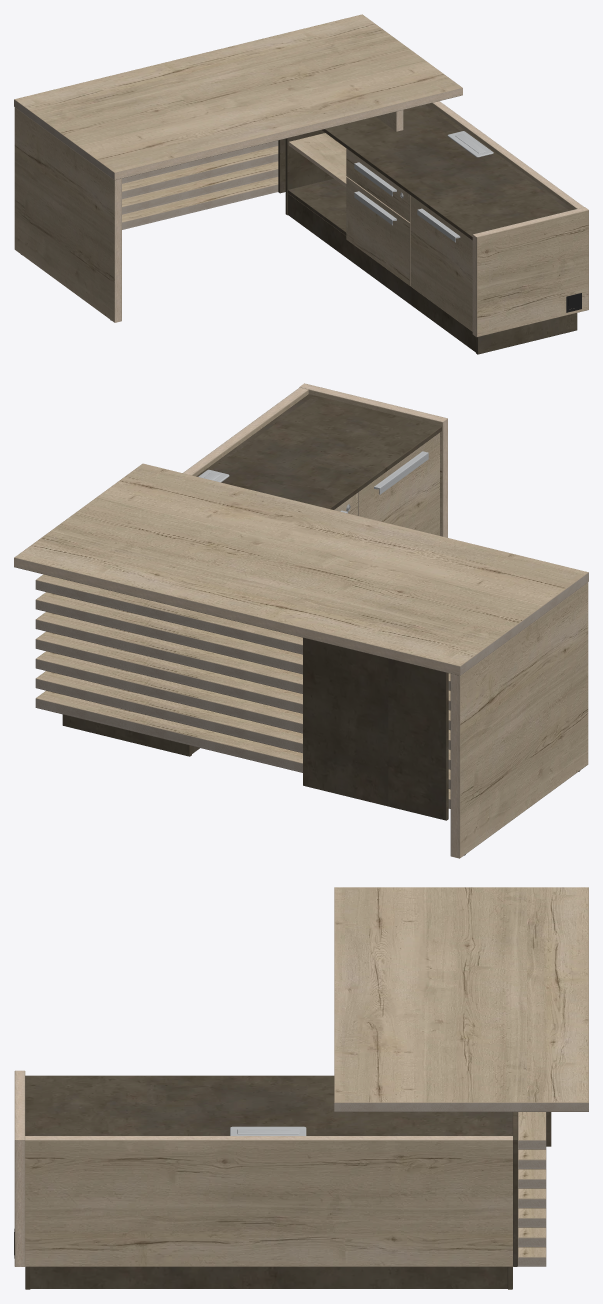
3 views of the same model, one above another, from view 1: azimuth 30°, elevation 25°; view 2: azimuth 150°, elevation 25°; view 3: azimuth 270°, elevation 25° (orthographic). The views are drawn at different scales.
Parts seen in each view (by area): view 1: Box1578995149, Line1789532200, Line1789532211, Line1789532197, Line1789532193, Line1789532195, Line1789532187, Line1789532206, Line1789532205, Line1789532207, Line1789532186, Line1789532184 (+6 smaller); view 2: Box1578995149, Line1789532200, Line1789532201, Line1789532211, Line1789532205, Line1789532206, Line1789532207, Line1789532208, Line1789532204, Line1789532203, Line1789532209, Line1789532193 (+4 smaller); view 3: Line1789532198, Box1578995149, Line1789532211, Line1789532188, Line1789532197, Line1789532209, Line1789532199, closed_socket, Line1789532204, Line1789532206, Line1789532208, Line1789532203 (+2 smaller).
Boxes of the visible parts, <box> form: Box1578995149: <box>14,14,462,180</box>; Line1789532200: <box>14,107,121,322</box>; Line1789532211: <box>322,103,573,240</box>; Line1789532197: <box>472,207,588,337</box>; Line1789532193: <box>410,195,472,331</box>; Line1789532195: <box>346,176,410,285</box>; Line1789532187: <box>288,193,475,352</box>; Line1789532206: <box>122,161,278,214</box>; Line1789532205: <box>122,146,278,199</box>; Line1789532207: <box>122,176,278,229</box>; Line1789532186: <box>288,178,346,235</box>; Line1789532184: <box>476,313,577,354</box>; Box1578995149: <box>14,463,588,675</box>; Line1789532200: <box>450,582,588,858</box>; Line1789532201: <box>303,638,448,820</box>; Line1789532211: <box>196,394,441,509</box>; Line1789532205: <box>35,651,450,769</box>; Line1789532206: <box>35,671,450,789</box>; Line1789532207: <box>35,690,450,808</box>; Line1789532208: <box>35,592,450,710</box>; Line1789532204: <box>35,631,450,749</box>; Line1789532203: <box>35,612,450,729</box>; Line1789532209: <box>35,574,450,690</box>; Line1789532193: <box>358,432,439,535</box>; Line1789532198: <box>25,1136,512,1266</box>; Box1578995149: <box>334,887,588,1111</box>; Line1789532211: <box>25,1075,512,1135</box>; Line1789532188: <box>30,1266,507,1288</box>; Line1789532197: <box>14,1070,25,1266</box>; Line1789532209: <box>518,1112,546,1149</box>; Line1789532199: <box>513,1112,517,1266</box>; closed_socket: <box>230,1126,306,1135</box>; Line1789532204: <box>518,1188,546,1208</box>; Line1789532206: <box>518,1227,546,1247</box>; Line1789532208: <box>518,1149,546,1169</box>; Line1789532203: <box>518,1169,546,1188</box>.
Size of the model in its own units: 1.8 by 0.75 by 2.03.
9 materials, 6 textured.
